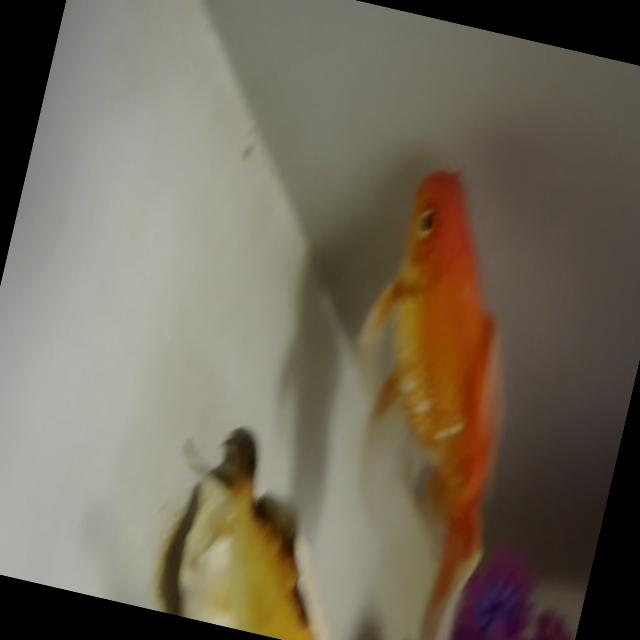fish: (306, 75, 615, 640), (144, 397, 383, 640)
